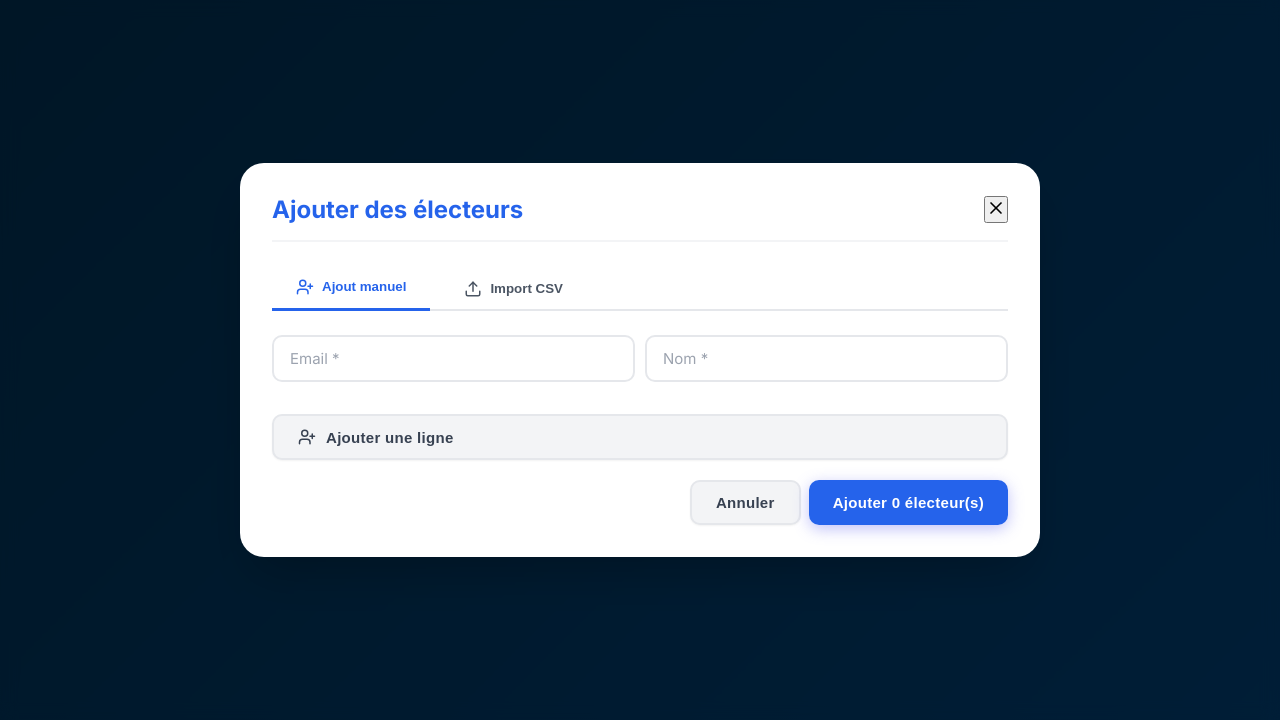
Test: AddVotersModal Component › Manual Mode - Voter Management › devrait ajouter une nouvelle ligne quand on clique sur "Ajouter une ligne"
Click the button "Ajouter une ligne" at x=390, y=437, box [272, 414, 1008, 460]
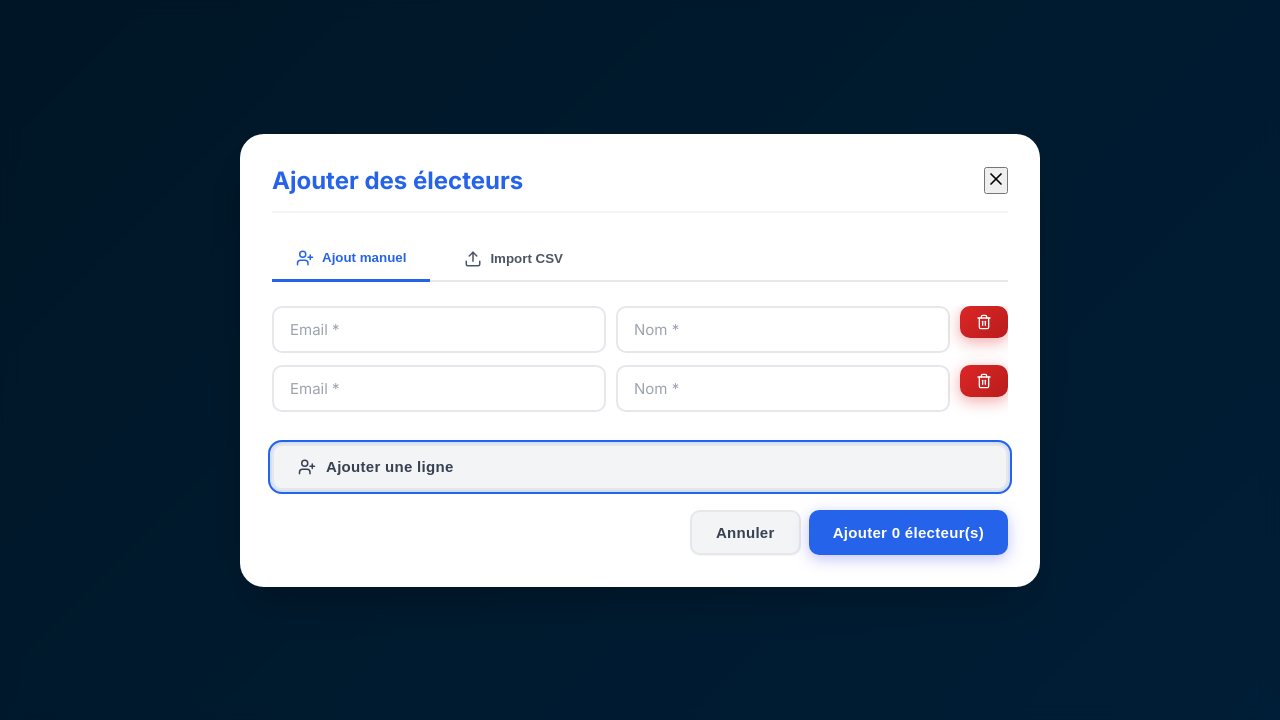
Expected: the number of fields with placeholder "Email *" is 2, [272, 306, 606, 352]; [272, 364, 606, 412]
